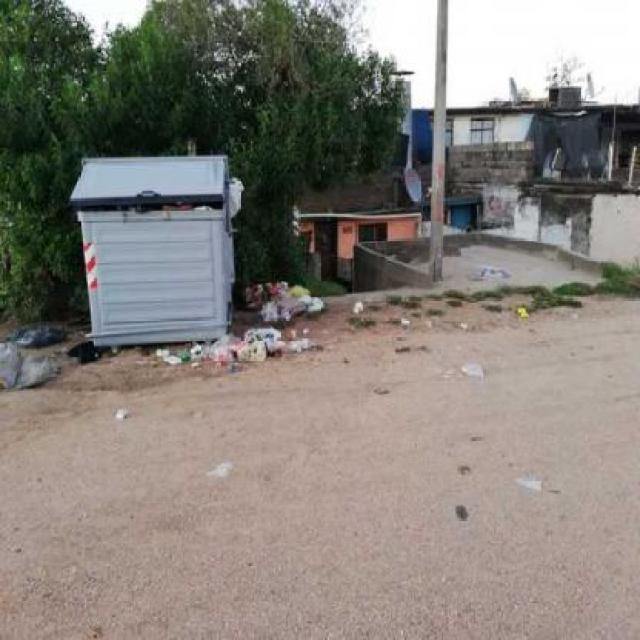garbage: (239, 271, 355, 362), (121, 331, 244, 375), (0, 316, 62, 393), (69, 329, 103, 372), (453, 352, 486, 390), (480, 254, 507, 288), (391, 309, 418, 336), (508, 305, 535, 320)
